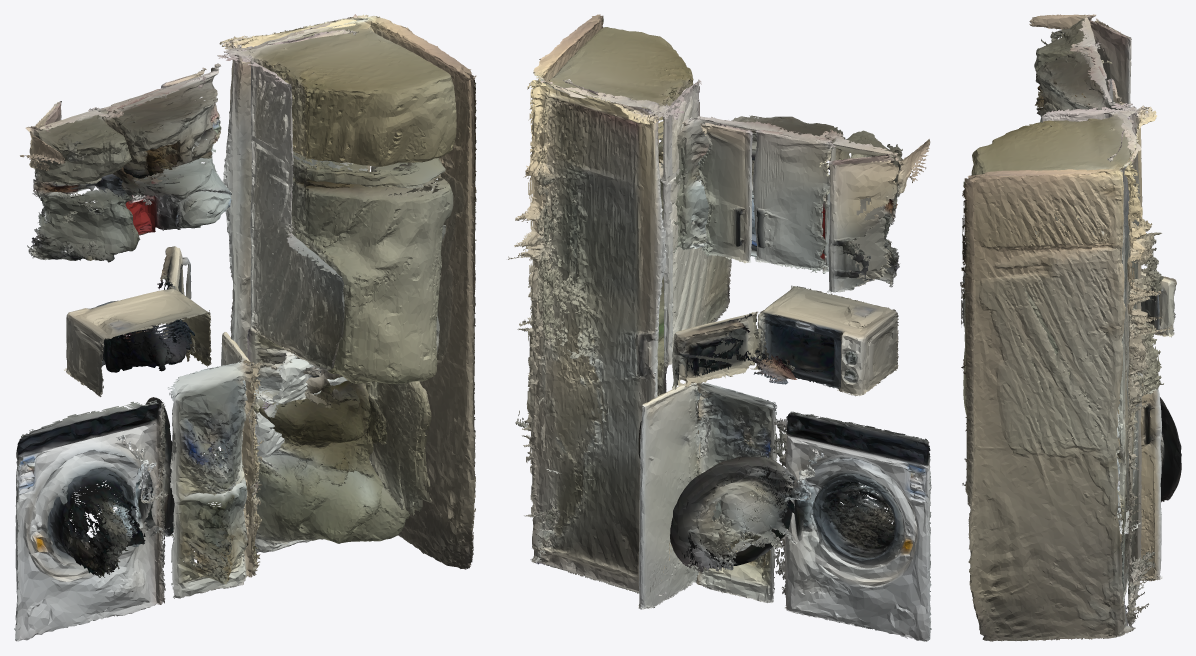
Rendered from all.glb.
3 renders of one model, left to right at view 1: azimuth 30°, elevation 25°; view 2: azimuth 150°, elevation 25°; view 3: azimuth 270°, elevation 25°, orthographic. The views are drawn at different scales.
Visible parts, largest first — view 1: cabinet_1r2p_transparent_start_0, washingmachine_1r_start_0, cabinet_3r_white_start_0, cabinet_1r_white_start_0, microwave_start_0, cabinet_1r2p_transparent_start_3, washingmachine_1r_start_1, cabinet_1r_white_start_1, cabinet_1r2p_transparent_start_1, microwave_start_1, cabinet_1r2p_transparent_start_2; view 2: cabinet_1r2p_transparent_start_3, washingmachine_1r_start_0, cabinet_1r2p_transparent_start_0, washingmachine_1r_start_1, microwave_start_0, cabinet_1r_white_start_1, cabinet_3r_white_start_3, cabinet_3r_white_start_0, cabinet_1r_white_start_0, cabinet_3r_white_start_1, cabinet_3r_white_start_2, microwave_start_1; view 3: cabinet_1r2p_transparent_start_0, cabinet_1r2p_transparent_start_3, cabinet_3r_white_start_0, cabinet_1r_white_start_1, cabinet_3r_white_start_1, washingmachine_1r_start_1, microwave_start_1, cabinet_1r2p_transparent_start_2.
Boxes of the visible parts, x1,y1,x2,y2 form: cabinet_1r2p_transparent_start_0: (217,14,476,569); washingmachine_1r_start_0: (14,399,165,641); cabinet_3r_white_start_0: (20,63,231,262); cabinet_1r_white_start_0: (168,361,254,598); microwave_start_0: (64,286,211,396); cabinet_1r2p_transparent_start_3: (219,14,370,485); washingmachine_1r_start_1: (117,397,174,537); cabinet_1r_white_start_1: (220,332,263,575); cabinet_1r2p_transparent_start_1: (255,351,347,404); microwave_start_1: (123,246,191,341); cabinet_1r2p_transparent_start_2: (253,402,284,457); cabinet_1r2p_transparent_start_3: (508,79,667,595); washingmachine_1r_start_0: (770,411,931,641); cabinet_1r2p_transparent_start_0: (530,14,731,569); washingmachine_1r_start_1: (670,449,823,572); microwave_start_0: (750,285,898,396); cabinet_1r_white_start_1: (638,382,711,609); cabinet_3r_white_start_3: (752,130,836,272); cabinet_3r_white_start_0: (673,115,930,287); cabinet_1r_white_start_0: (696,383,777,603); cabinet_3r_white_start_1: (827,154,898,292); cabinet_3r_white_start_2: (696,122,752,263); microwave_start_1: (672,311,797,389); cabinet_1r2p_transparent_start_0: (960,103,1141,641); cabinet_1r2p_transparent_start_3: (1107,105,1173,627); cabinet_3r_white_start_0: (1029,14,1142,197); cabinet_1r_white_start_1: (1118,383,1162,581); cabinet_3r_white_start_1: (1089,18,1131,107); washingmachine_1r_start_1: (1160,397,1181,502); microwave_start_1: (1141,268,1176,337); cabinet_1r2p_transparent_start_2: (1115,458,1141,534).
Bounding box in the file's own units: 1.67 × 2.01 × 0.845.
